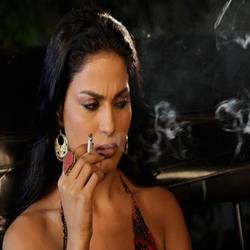smoking: (55, 132, 106, 238)
